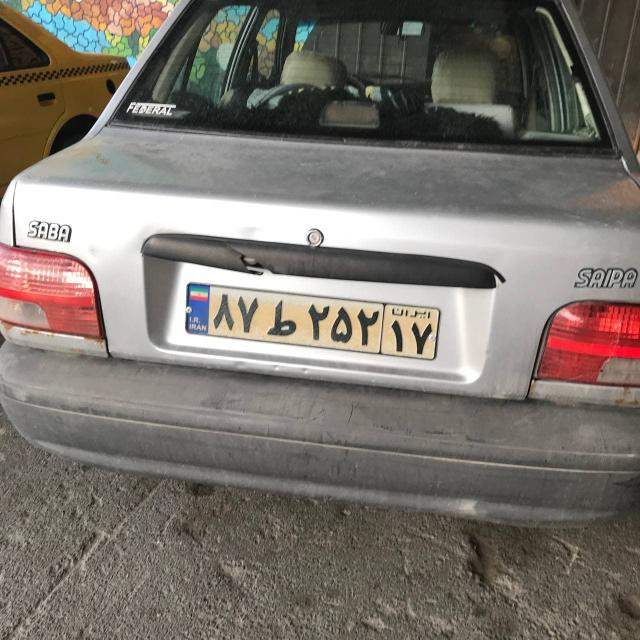Plates: (183, 284, 439, 359)
